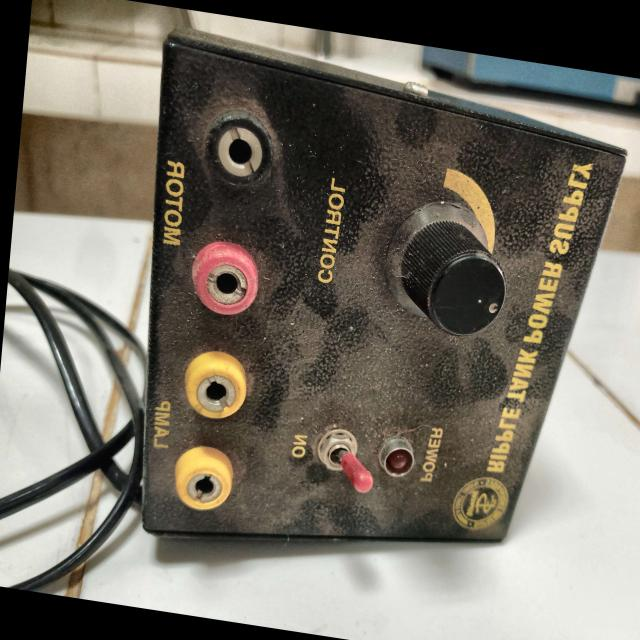Ripple Tank Power Supply: (116, 12, 640, 614)
